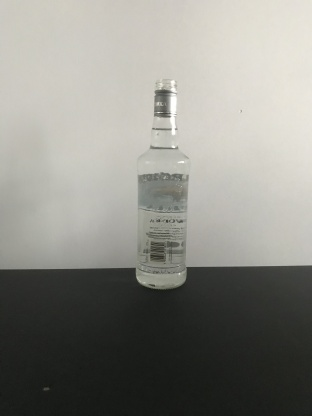nakretka: (152, 76, 179, 118)
